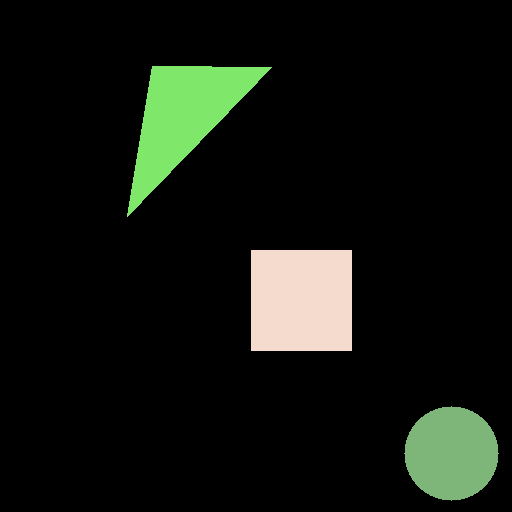circle: (404, 406, 498, 500)
square: (251, 250, 351, 350)
triangle: (127, 66, 271, 216)
